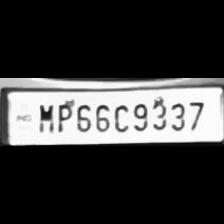3: (166, 98, 186, 132), (150, 96, 168, 132)
6: (72, 100, 92, 134), (92, 100, 110, 134)
7: (186, 98, 206, 130)
9: (129, 99, 149, 133)
C: (112, 101, 128, 133)
M: (34, 100, 54, 134)
P: (54, 99, 72, 134)
